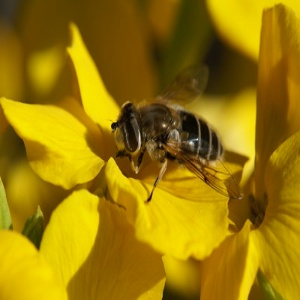bee: (112, 65, 248, 212)
